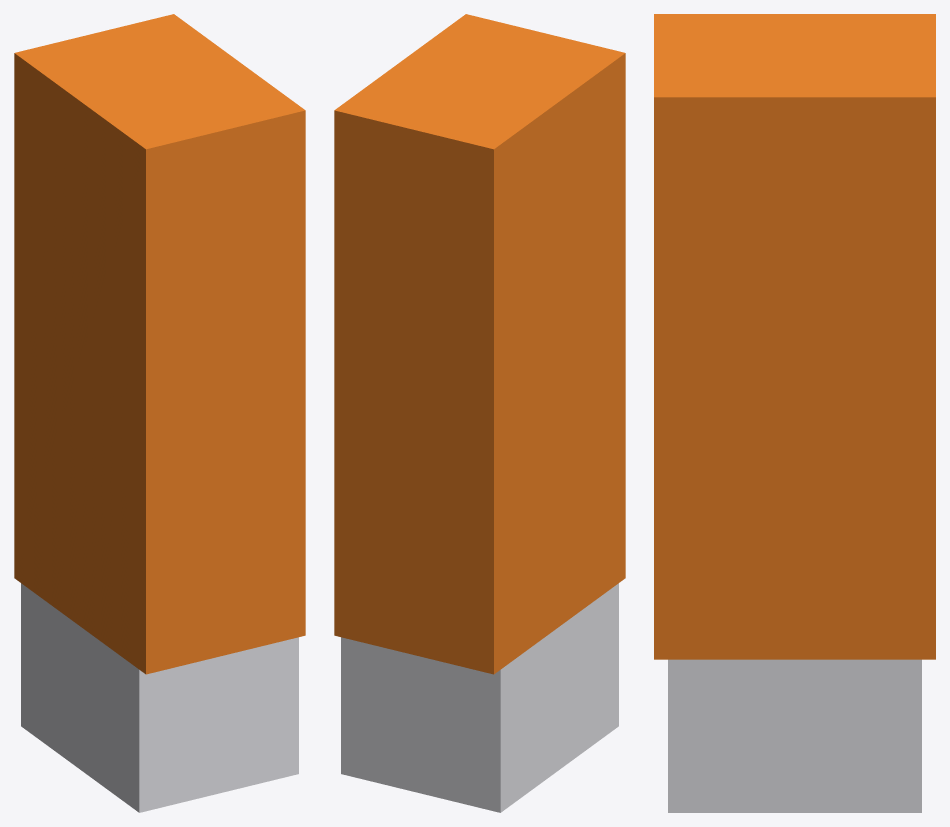
File: runner_arm.obj
The picture shows the model from 3 angles, left to right: view 1: azimuth 30°, elevation 25°; view 2: azimuth 150°, elevation 25°; view 3: azimuth 270°, elevation 25°; orthographic projection. The views are drawn at different scales.
Parts seen in each view (by area): view 1: runner_arm; view 2: runner_arm; view 3: runner_arm.
Part boxes in pixels (left/top/right/bottom): runner_arm: left=14, top=14, right=305, bottom=812; runner_arm: left=334, top=14, right=625, bottom=812; runner_arm: left=654, top=14, right=935, bottom=812.
Size of the model in its own units: 0.07 by 0.28 by 0.1.
1 material, 1 textured.
